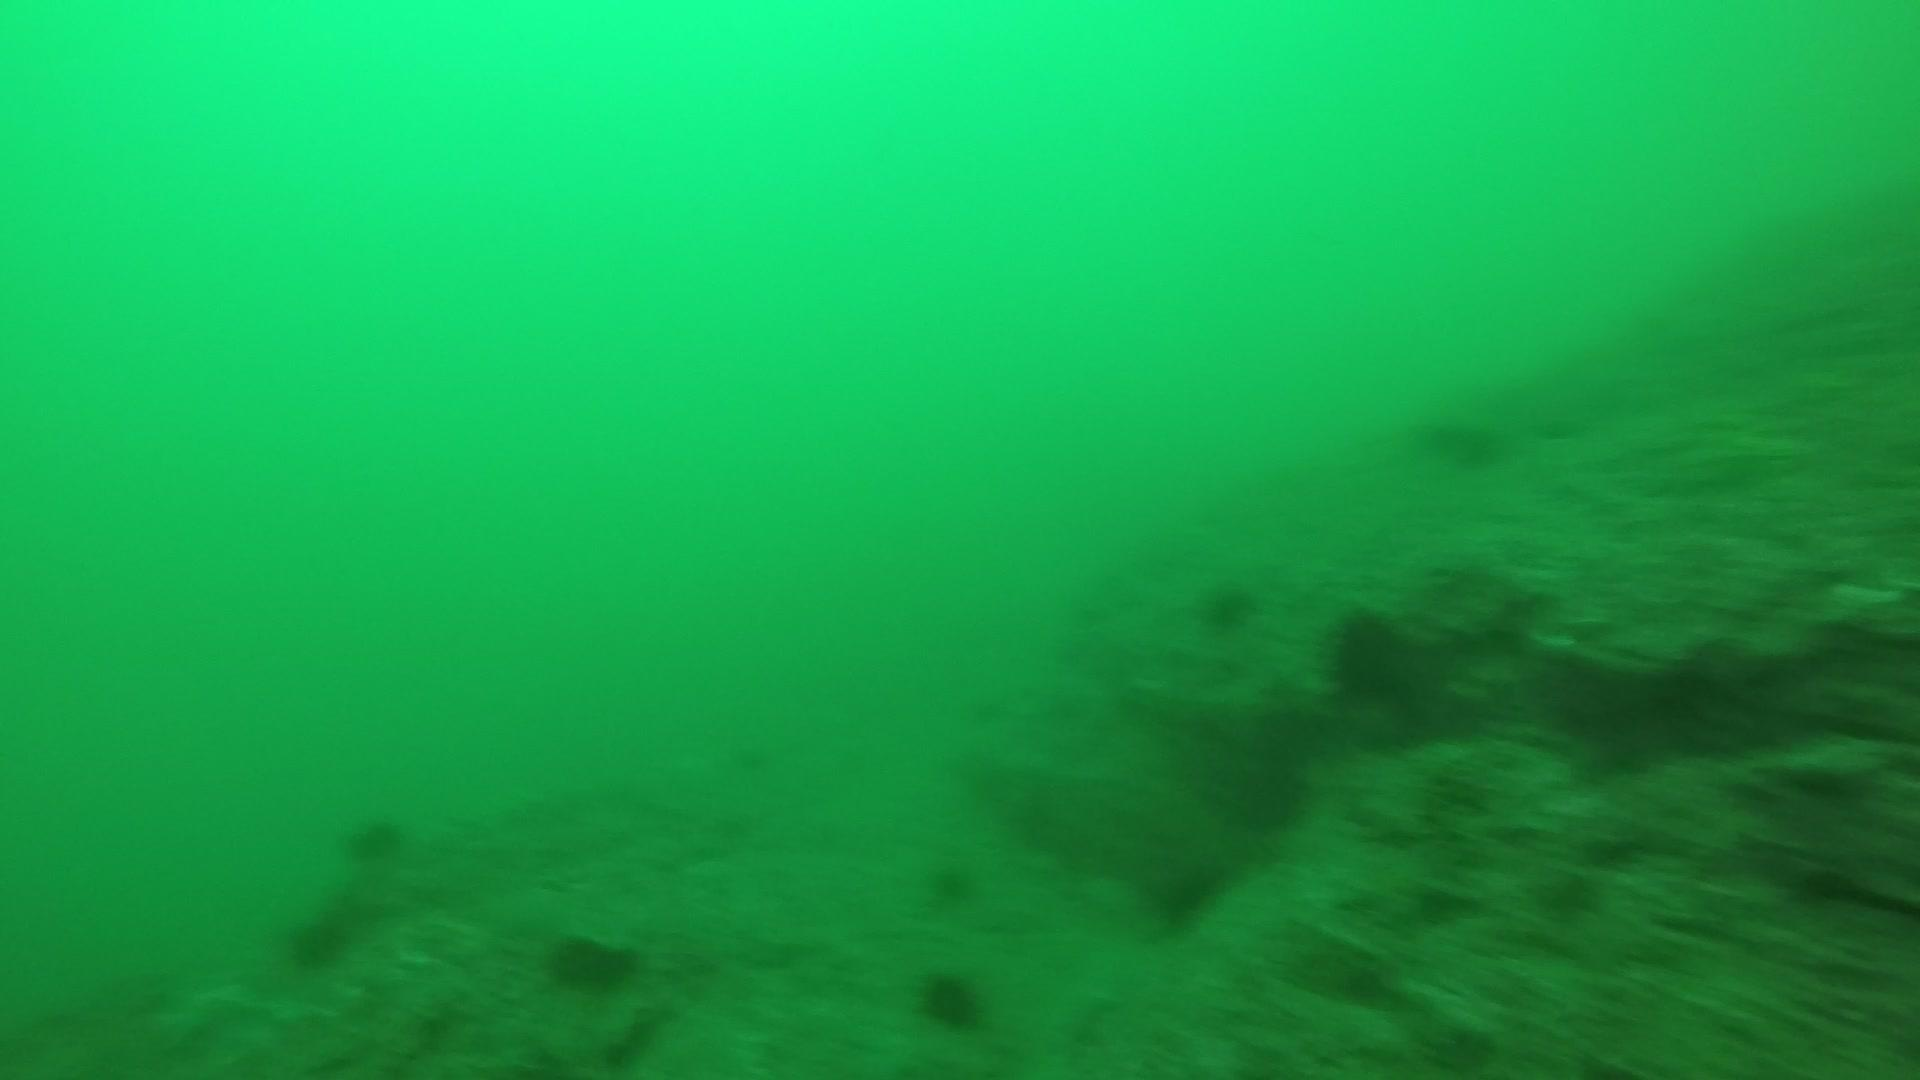echinus: (1319, 604, 1423, 707), (1218, 745, 1315, 836), (541, 924, 641, 998), (1414, 400, 1509, 472), (1138, 853, 1226, 931), (910, 963, 992, 1035), (281, 902, 357, 975), (338, 807, 411, 868), (1192, 574, 1262, 636), (916, 853, 984, 913)
